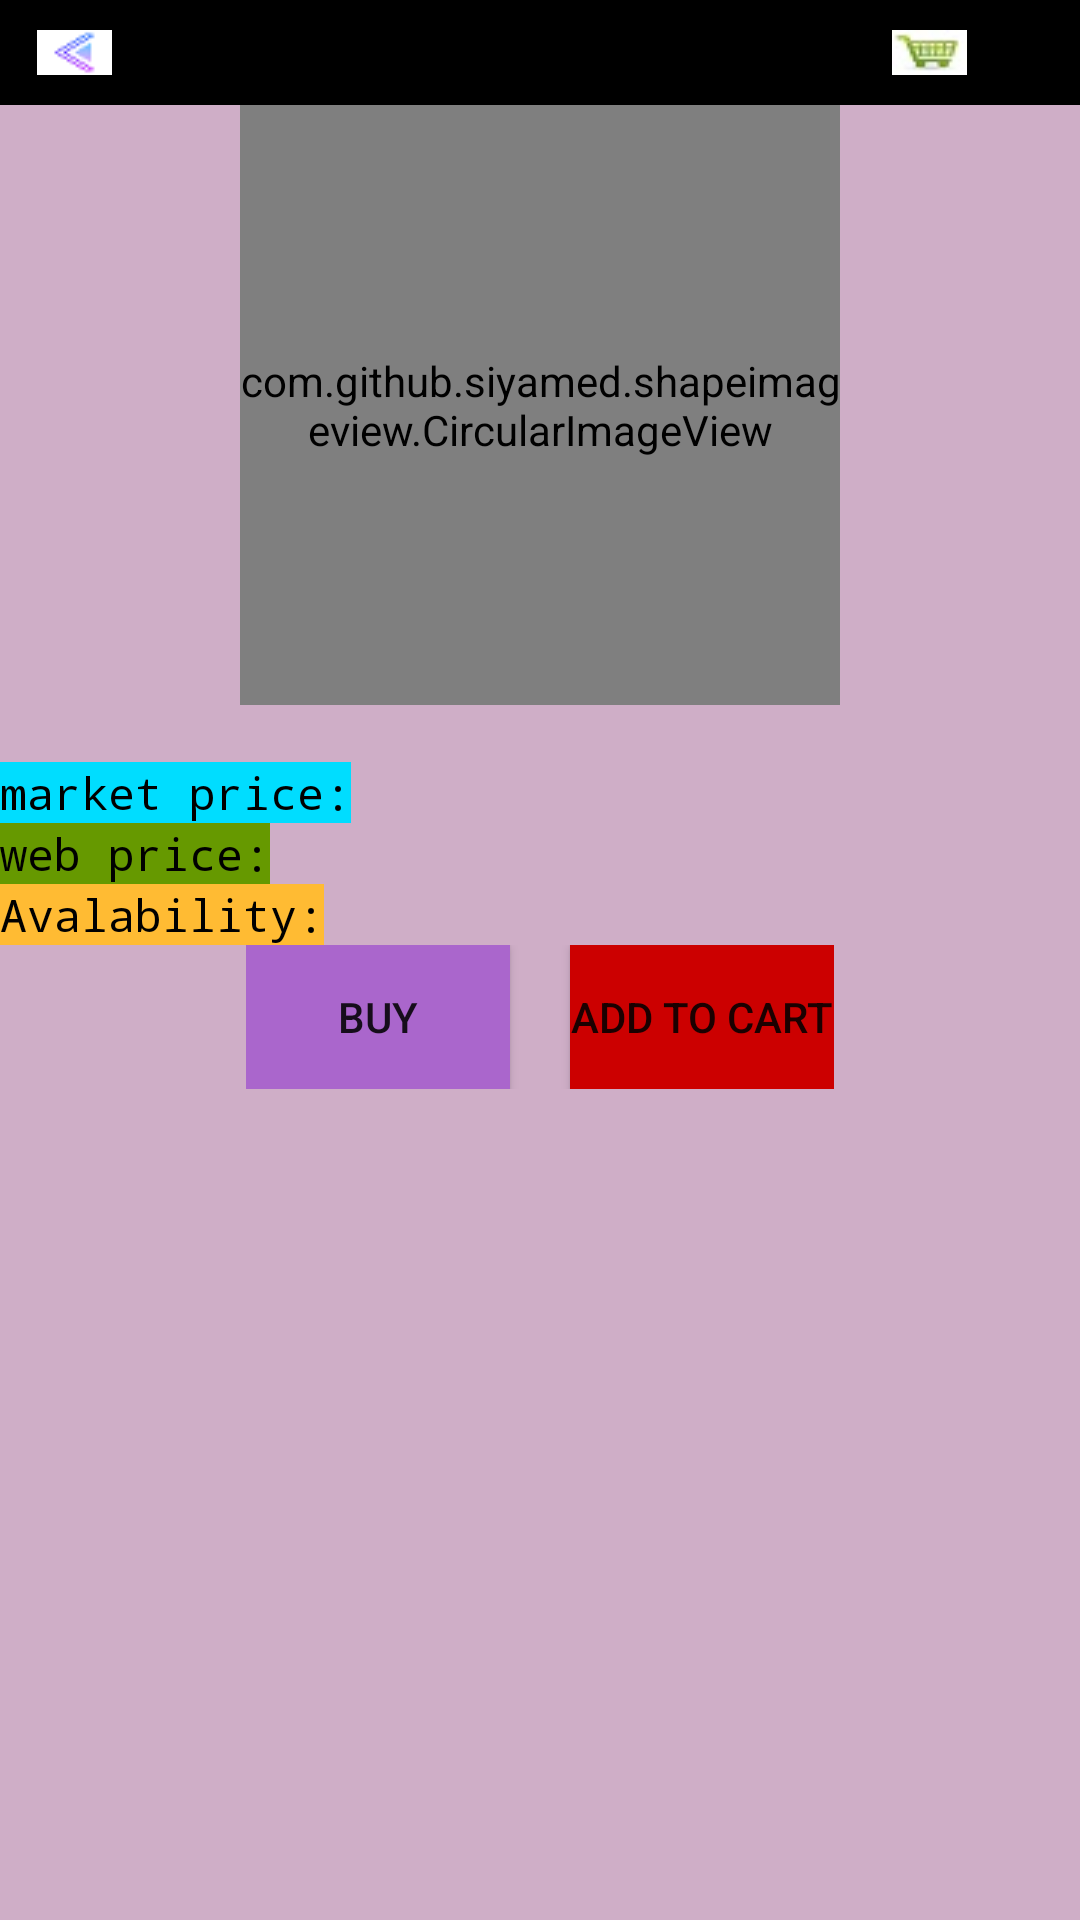

Icons on this 1080*1920 Android screen, each with its box as (x1, y1, x2, y2):
back: (37, 30, 112, 75)
cart: (892, 30, 967, 75)
